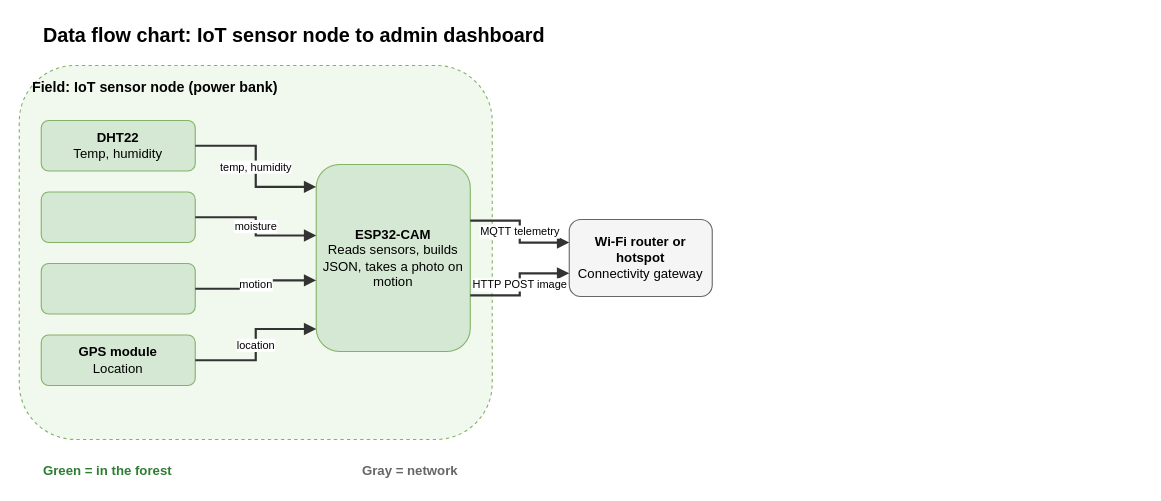
Image size: 1161x501. Some labels were removed from this diagram. Here are the shapes that lost their labels. From the top down, the centre of each, then its label:
At [117,217]: "Soil sensor Soil moisture".
At [117,288]: "PIR sensor Motion".
